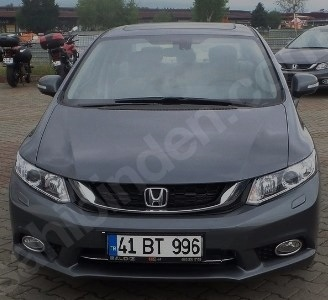plaka: (116, 231, 205, 256)
